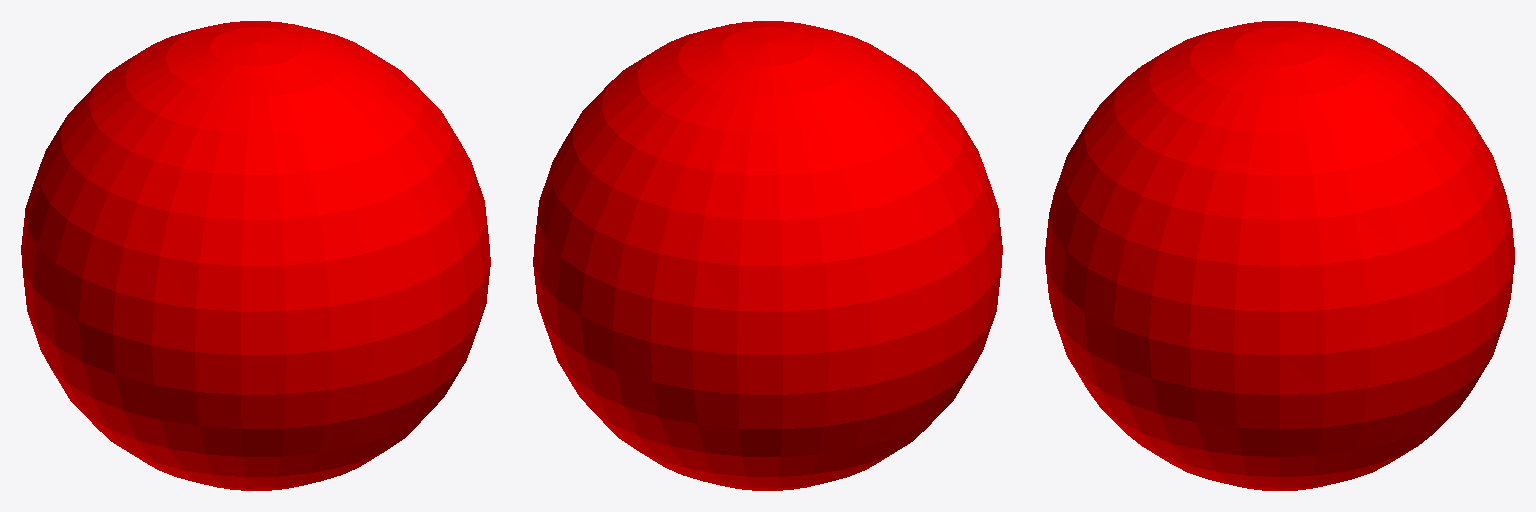
The model's file is isik.obj.
3 views of the same model, side by side, from view 1: azimuth 30°, elevation 25°; view 2: azimuth 150°, elevation 25°; view 3: azimuth 270°, elevation 25° (orthographic).
Parts seen in each view (by area): view 1: Sphere001; view 2: Sphere001; view 3: Sphere001.
Boxes of the visible parts, x1=… form: Sphere001: x1=21, y1=21, x2=490, y2=490; Sphere001: x1=533, y1=21, x2=1002, y2=490; Sphere001: x1=1045, y1=21, x2=1514, y2=490.
Bounding box in the file's own units: 0.4 × 0.4 × 0.4.